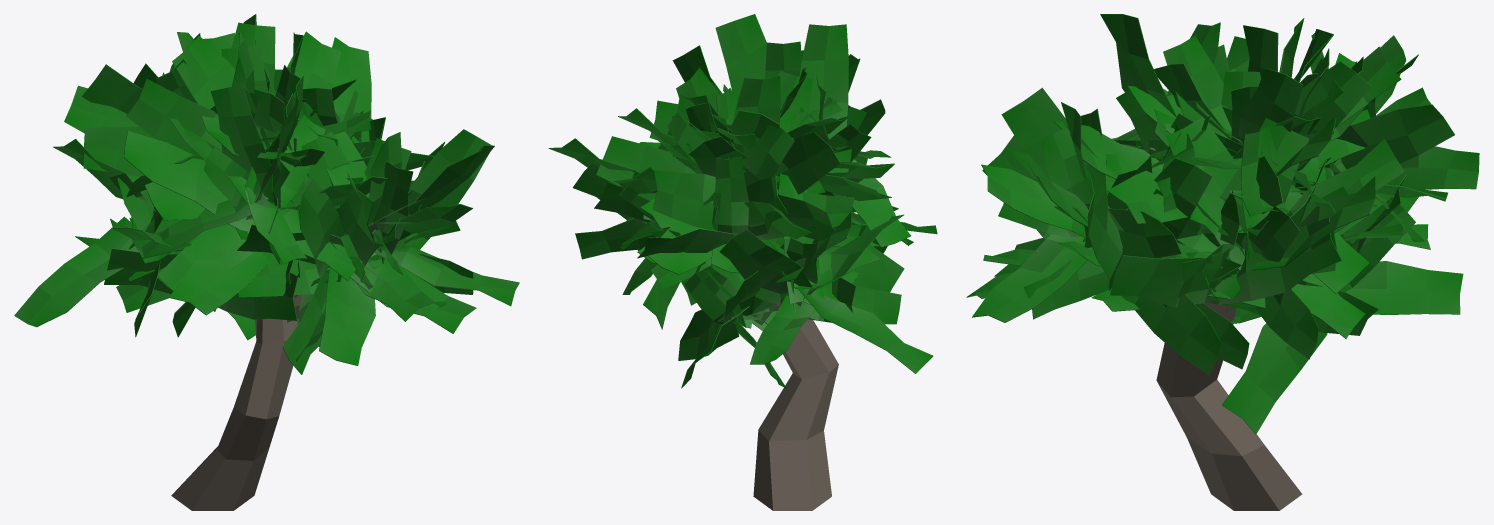
File: Arvores2LOD.fbx
3 renders of one model, left to right at view 1: azimuth 30°, elevation 25°; view 2: azimuth 150°, elevation 25°; view 3: azimuth 270°, elevation 25°, orthographic. The views are drawn at different scales.
Parts seen in each view (by area): view 1: Arvore02_LOD0; view 2: Arvore02_LOD0; view 3: Arvore02_LOD0.
Boxes of the visible parts, x1=… form: Arvore02_LOD0: x1=14, y1=14, x2=519, y2=510; Arvore02_LOD0: x1=548, y1=14, x2=937, y2=510; Arvore02_LOD0: x1=966, y1=14, x2=1479, y2=510.
Size of what is drawn, in the model's own units: 606 by 704 by 661.
